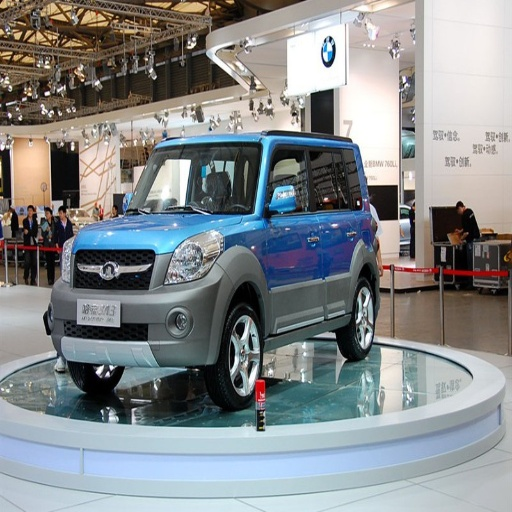front_bumper: (47, 235, 233, 374)
front_glass: (130, 146, 261, 214)
front_left_door: (265, 147, 324, 328)
trunk: (347, 205, 385, 274)
